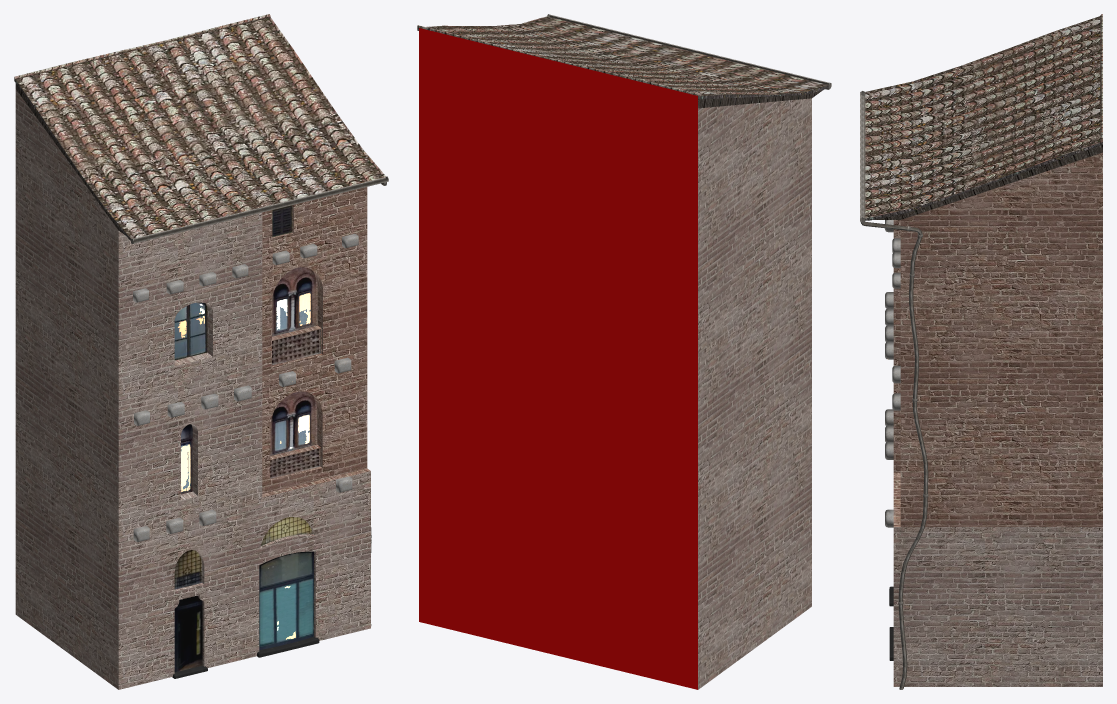
Rendered from it-sf-store.glb.
3 renders of one model, left to right at view 1: azimuth 30°, elevation 25°; view 2: azimuth 150°, elevation 25°; view 3: azimuth 270°, elevation 25°, orthographic. The views are drawn at different scales.
Visible parts, largest first — view 1: Store_Material #13_0, Store_Material #19_0, Store_Material #14_0, Store_Material #20_0, Store_Material #16_0, Store_Material #17_0, Store_Material #18_0, Store_Material #21_0; view 2: Store_Material #15_0, Store_Material #13_0, Store_Material #19_0, Store_Material #18_0, Store_Material #17_0; view 3: Store_Material #14_0, Store_Material #13_0, Store_Material #19_0, Store_Material #17_0, Store_Material #18_0, Store_Material #16_0.
Boxes of the visible parts, x1=… form: Store_Material #13_0: x1=15, y1=89, x2=370, y2=689; Store_Material #19_0: x1=14, y1=14, x2=385, y2=238; Store_Material #14_0: x1=262, y1=187, x2=370, y2=497; Store_Material #20_0: x1=174, y1=205, x2=320, y2=672; Store_Material #16_0: x1=133, y1=233, x2=358, y2=541; Store_Material #17_0: x1=131, y1=176, x2=388, y2=625; Store_Material #18_0: x1=14, y1=78, x2=385, y2=240; Store_Material #21_0: x1=172, y1=637, x2=319, y2=678; Store_Material #15_0: x1=419, y1=28, x2=697, y2=689; Store_Material #13_0: x1=698, y1=98, x2=811, y2=689; Store_Material #19_0: x1=417, y1=16, x2=828, y2=96; Store_Material #18_0: x1=417, y1=27, x2=828, y2=108; Store_Material #17_0: x1=547, y1=14, x2=831, y2=89; Store_Material #14_0: x1=893, y1=152, x2=1102, y2=526; Store_Material #13_0: x1=893, y1=527, x2=1102, y2=686; Store_Material #19_0: x1=865, y1=14, x2=1102, y2=218; Store_Material #17_0: x1=860, y1=91, x2=928, y2=689; Store_Material #18_0: x1=865, y1=142, x2=1102, y2=220; Store_Material #16_0: x1=885, y1=220, x2=900, y2=527.
Size of the model in its own units: 0.9791 by 1.95 by 0.7809.
9 materials, 8 textured.
